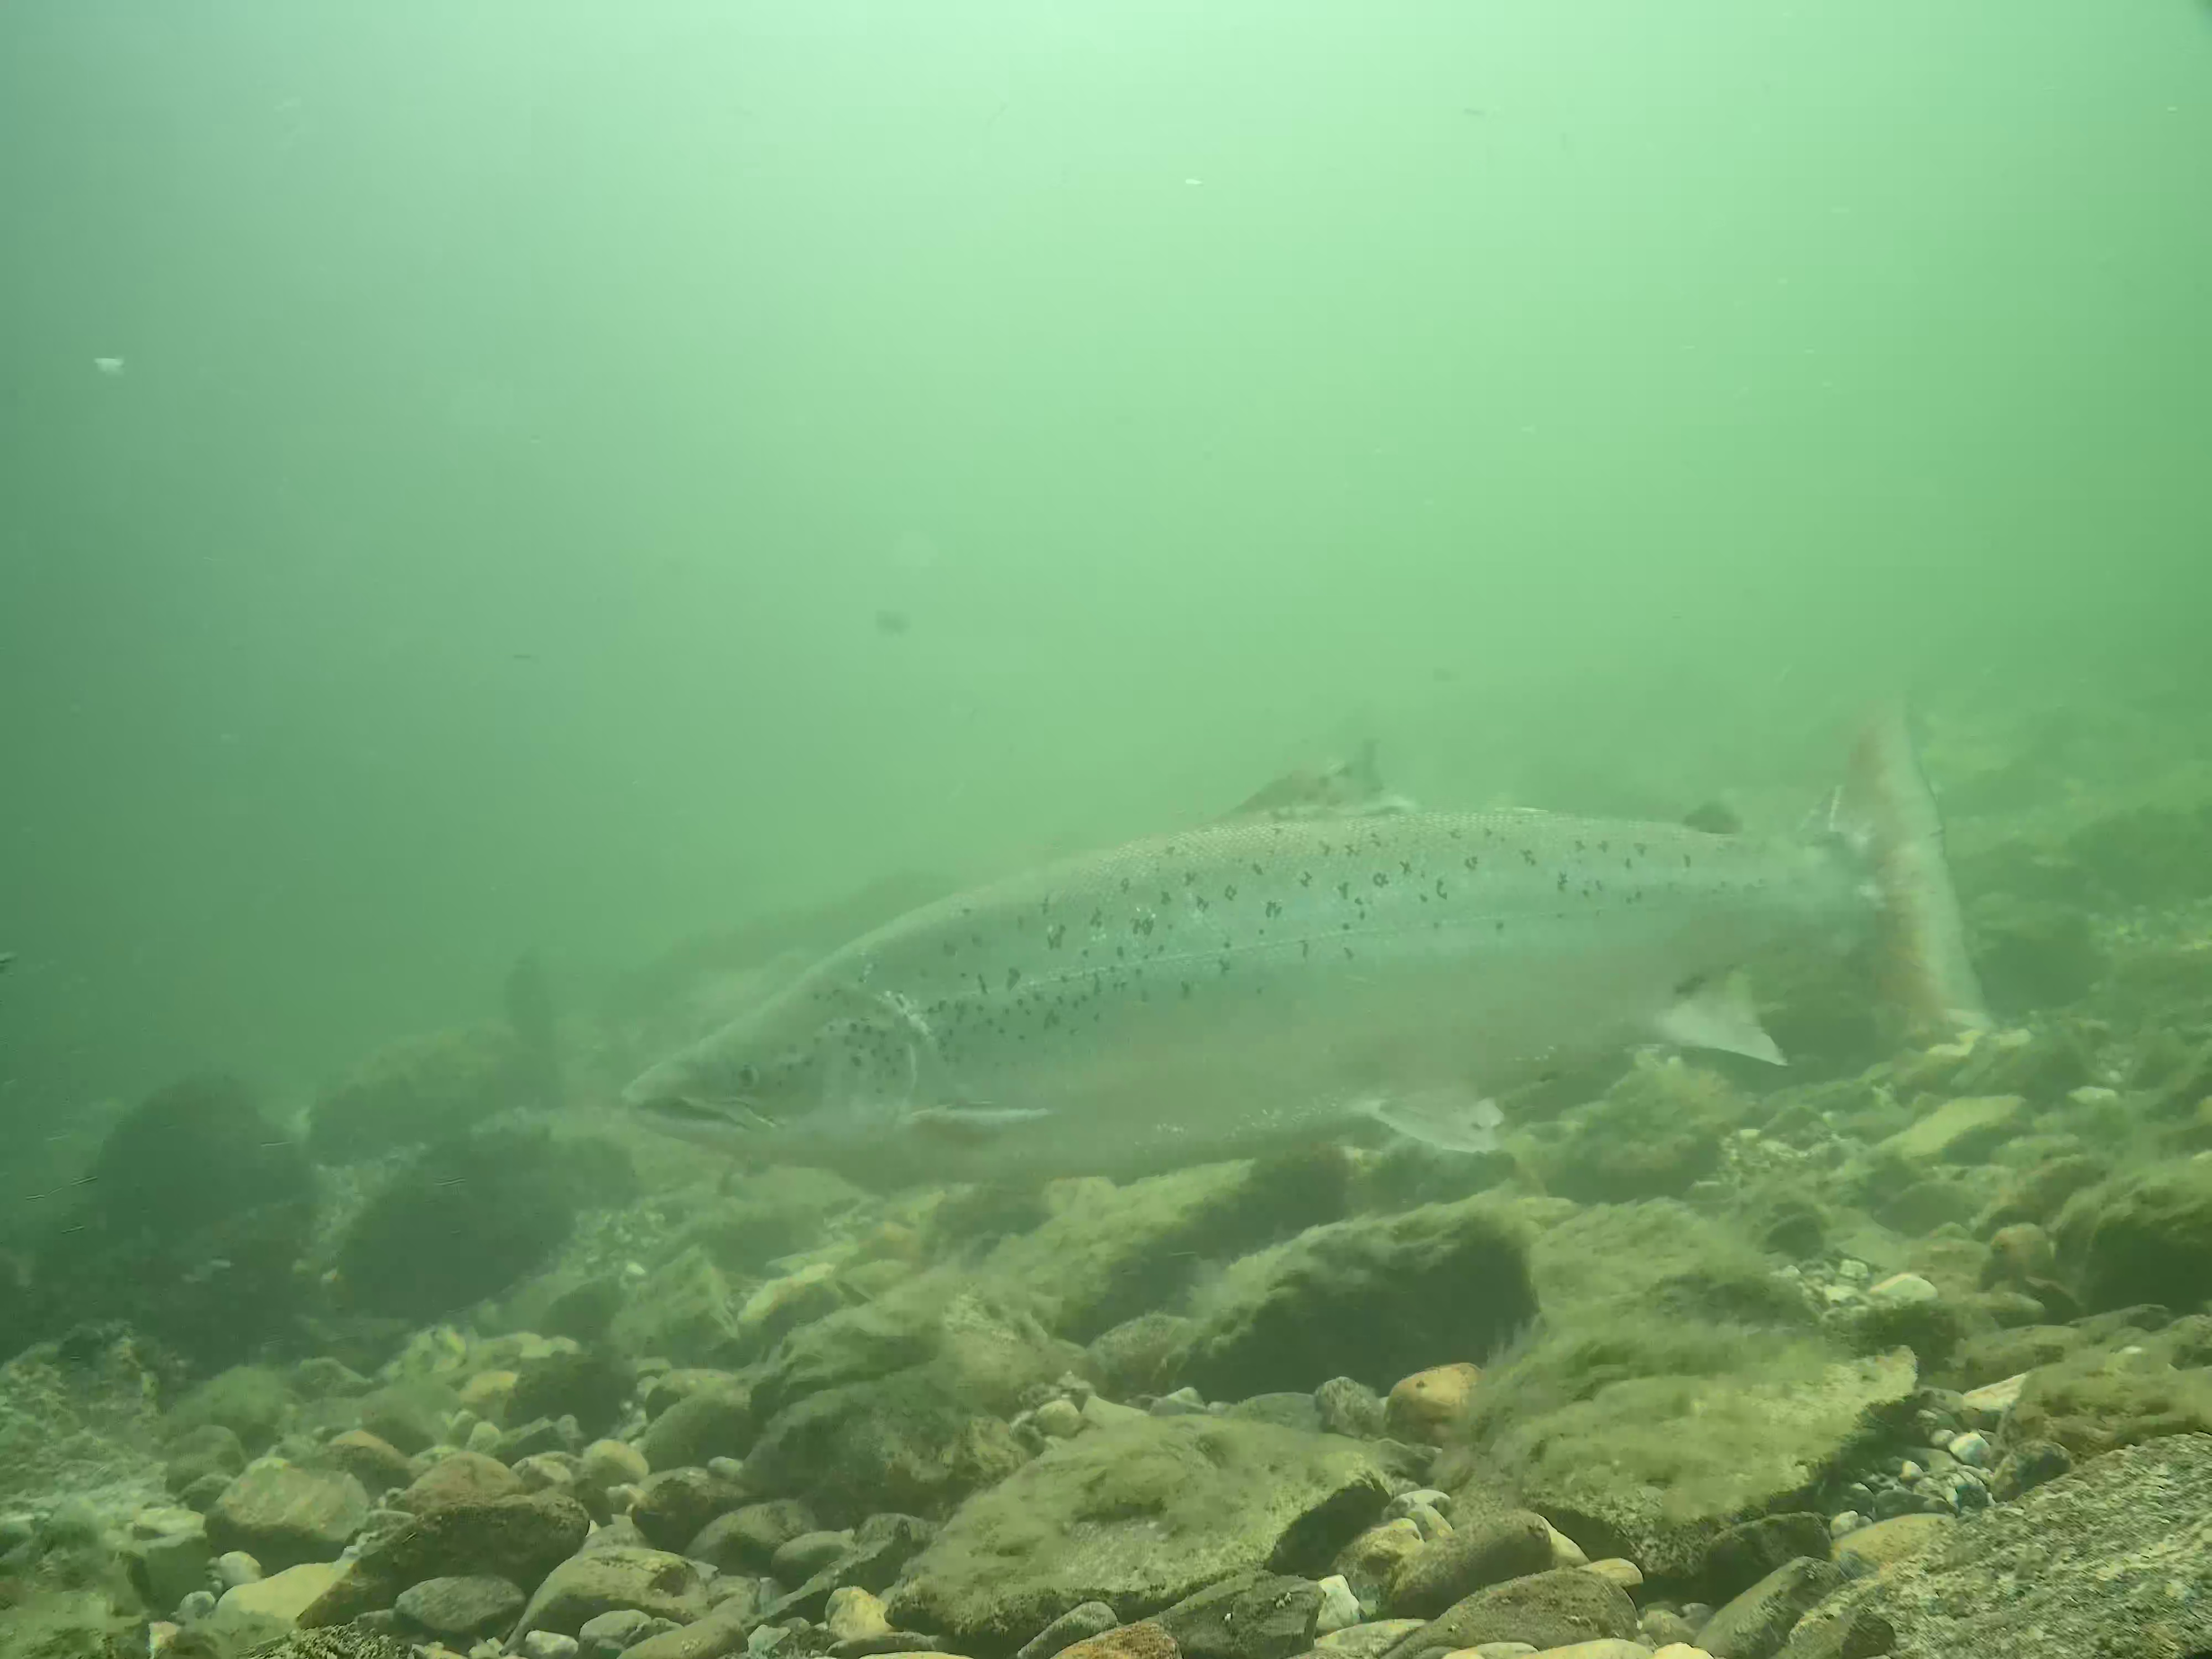salmon: (615, 683, 2008, 1192)
